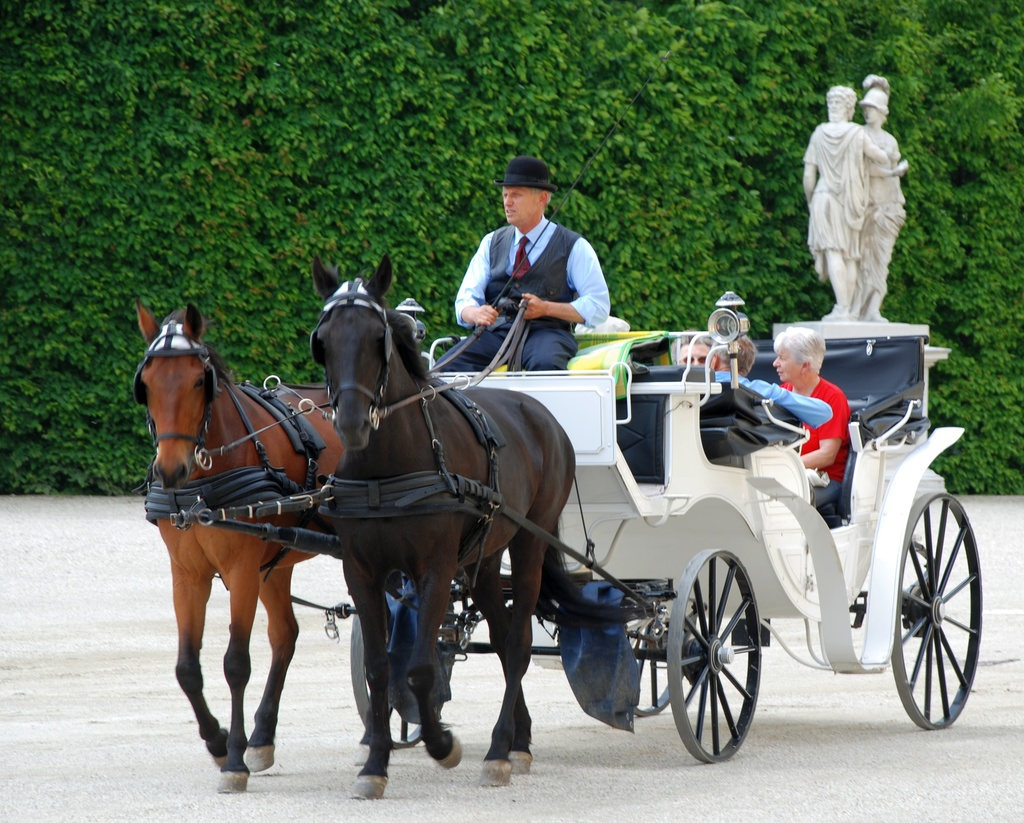horse: (310, 250, 576, 798)
